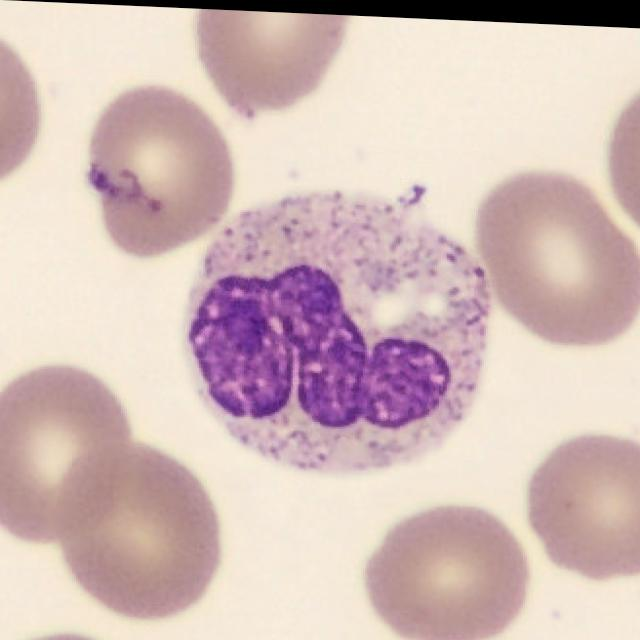Neutrofilo segmentado: (187, 183, 492, 471)
